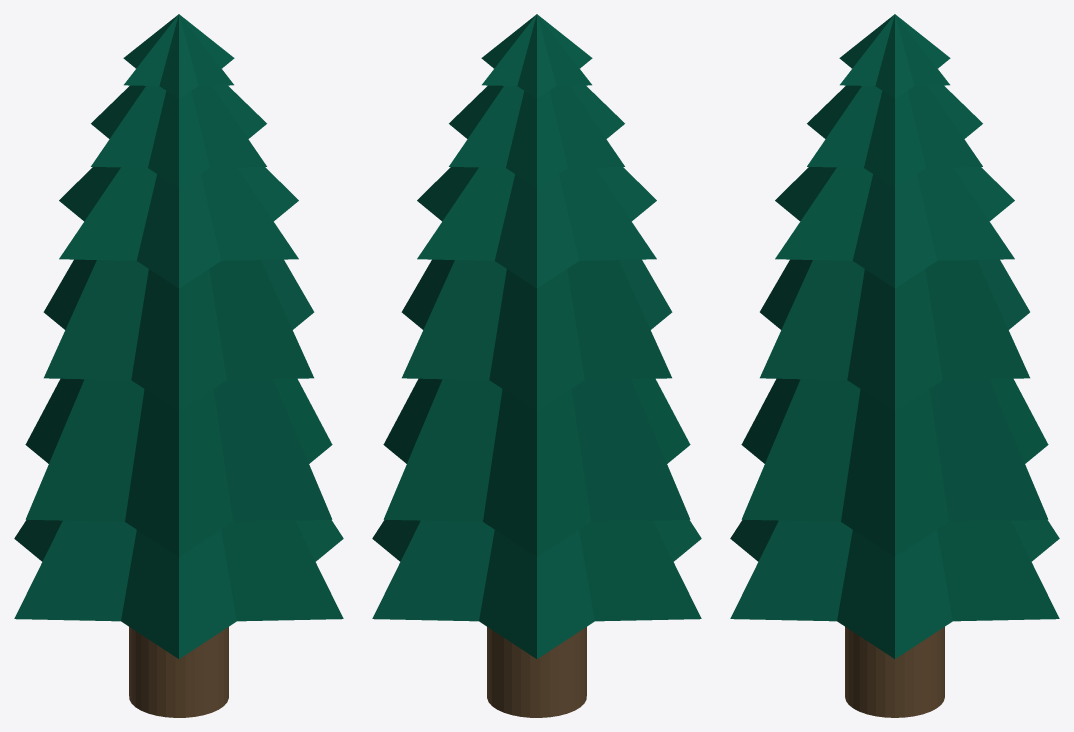
Rendered from tree.glb.
3 views of the same model, side by side, from view 1: azimuth 30°, elevation 25°; view 2: azimuth 150°, elevation 25°; view 3: azimuth 270°, elevation 25° (orthographic).
Visible parts, largest first — view 1: Cylinder.001, Cylinder; view 2: Cylinder.001, Cylinder; view 3: Cylinder.001, Cylinder.
Boxes of the visible parts, bbox=[...] form: Cylinder.001: bbox=[14, 14, 343, 658]; Cylinder: bbox=[129, 627, 228, 717]; Cylinder.001: bbox=[372, 14, 701, 658]; Cylinder: bbox=[487, 627, 586, 717]; Cylinder.001: bbox=[730, 14, 1059, 658]; Cylinder: bbox=[845, 627, 944, 717].
Size of the model in its own units: 0.1904 by 0.3768 by 0.1649.
